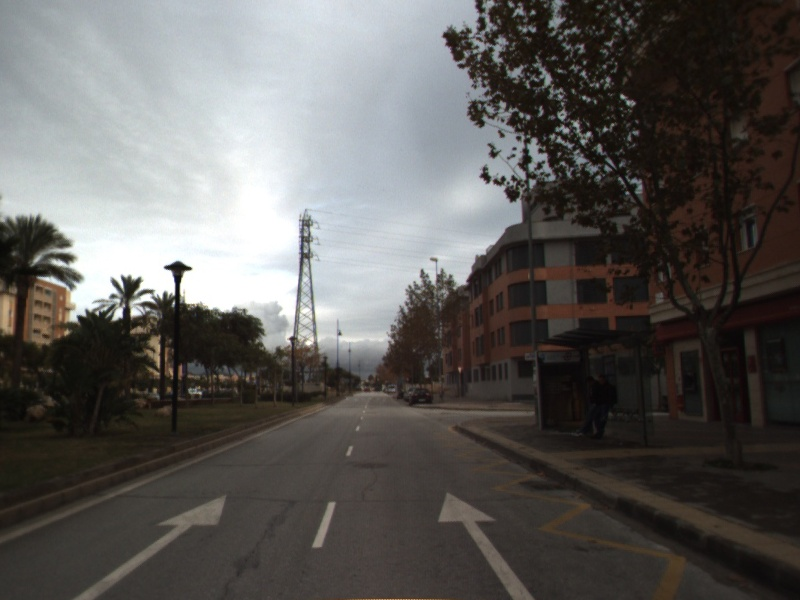STRAIGHT: (69, 492, 229, 600), (436, 490, 539, 600)
